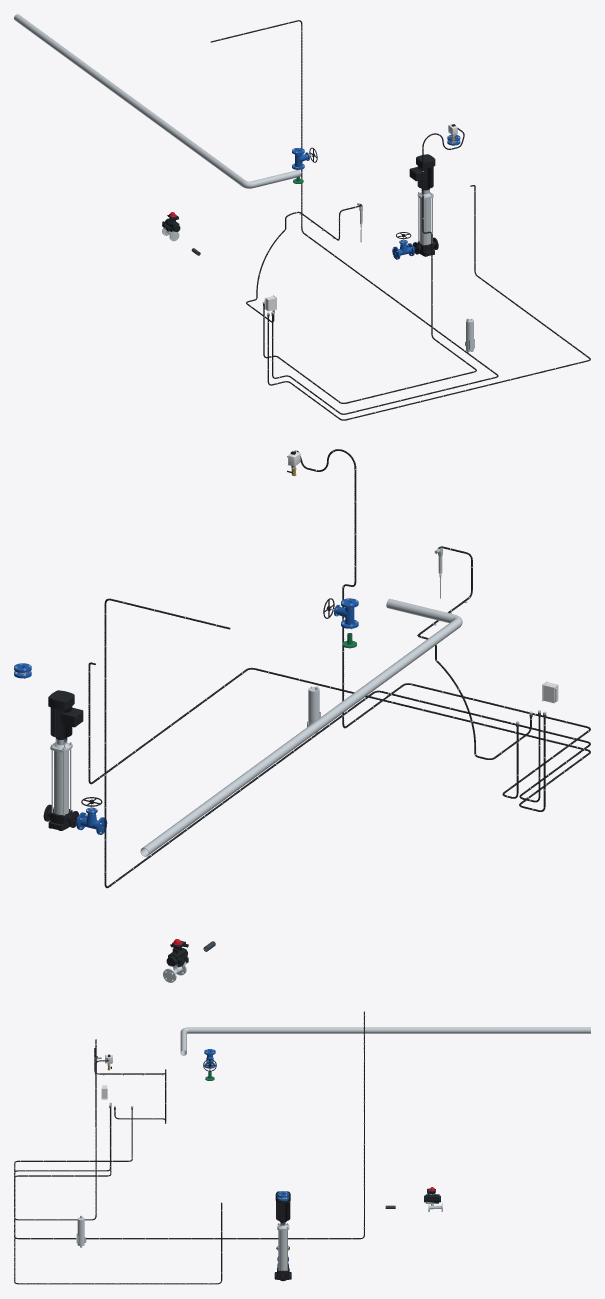
The model's file is s4000-3-CN8_ABBc.glb.
3 views of the same model, one above another, from view 1: azimuth 30°, elevation 25°; view 2: azimuth 150°, elevation 25°; view 3: azimuth 270°, elevation 25° (orthographic). The views are drawn at different scales.
Visible parts, largest first — view 1: safety_vent_1 / steel, mod_eco_drive_cable / black, wiring_pump_1 / black, wiring_pressure_switch_3 / black, pump_2 CAD solid 15; view 2: safety_vent_1 / steel, mod_eco_drive_cable / black, wiring_pump_1 / black, wiring_pressure_switch_3 / black, pump_2 CAD solid 15, pump_2 CAD solid 2, wiring_low_level_2 / black, bcv7432 / bcv7432_0.npz; view 3: safety_vent_1 / steel, mod_eco_drive_cable / black, wiring_pressure_switch_3 / black, wiring_pump_1 / black, wiring_low_level_2 / black, pump_2 CAD solid 15.
Part boxes in pixels (x1,y1,x2,y2): safety_vent_1 / steel: (14,14,301,188); mod_eco_drive_cable / black: (210,20,498,414); wiring_pump_1 / black: (267,185,590,420); wiring_pressure_switch_3 / black: (263,128,476,403); pump_2 CAD solid 15: (409,154,435,189); safety_vent_1 / steel: (140,598,462,856); mod_eco_drive_cable / black: (104,598,590,888); wiring_pump_1 / black: (88,662,590,811); wiring_pressure_switch_3 / black: (287,449,590,798); pump_2 CAD solid 15: (48,690,83,738); pump_2 CAD solid 2: (54,751,68,814); wiring_low_level_2 / black: (417,546,531,759); bcv7432 / bcv7432_0.npz: (163,939,188,982); safety_vent_1 / steel: (180,1027,590,1055); mod_eco_drive_cable / black: (14,1011,364,1239); wiring_pressure_switch_3 / black: (14,1039,132,1220); wiring_pump_1 / black: (14,1108,222,1284); wiring_low_level_2 / black: (94,1048,166,1123); pump_2 CAD solid 15: (275,1191,290,1221).
Bounding box in the file's own units: 3.67 × 2.71 × 7.03.
